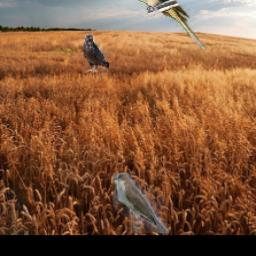Crow: (84, 35, 110, 73)
Cuckoo: (125, 0, 207, 50), (114, 174, 170, 234)
